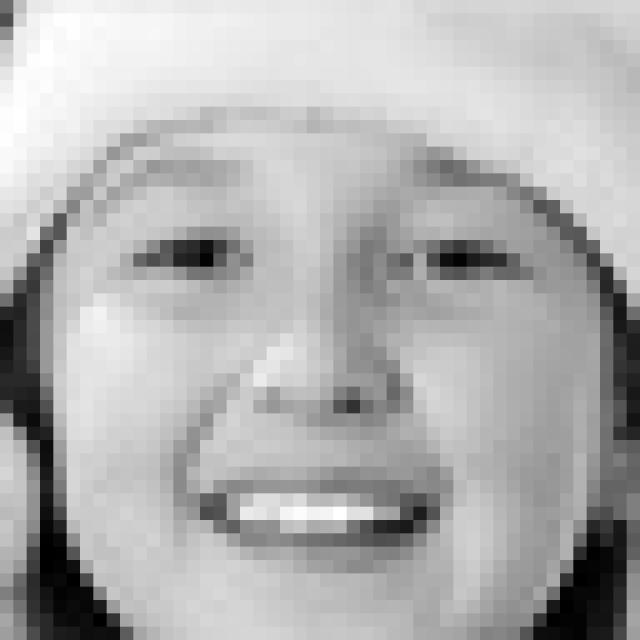happy: (93, 153, 537, 575)
